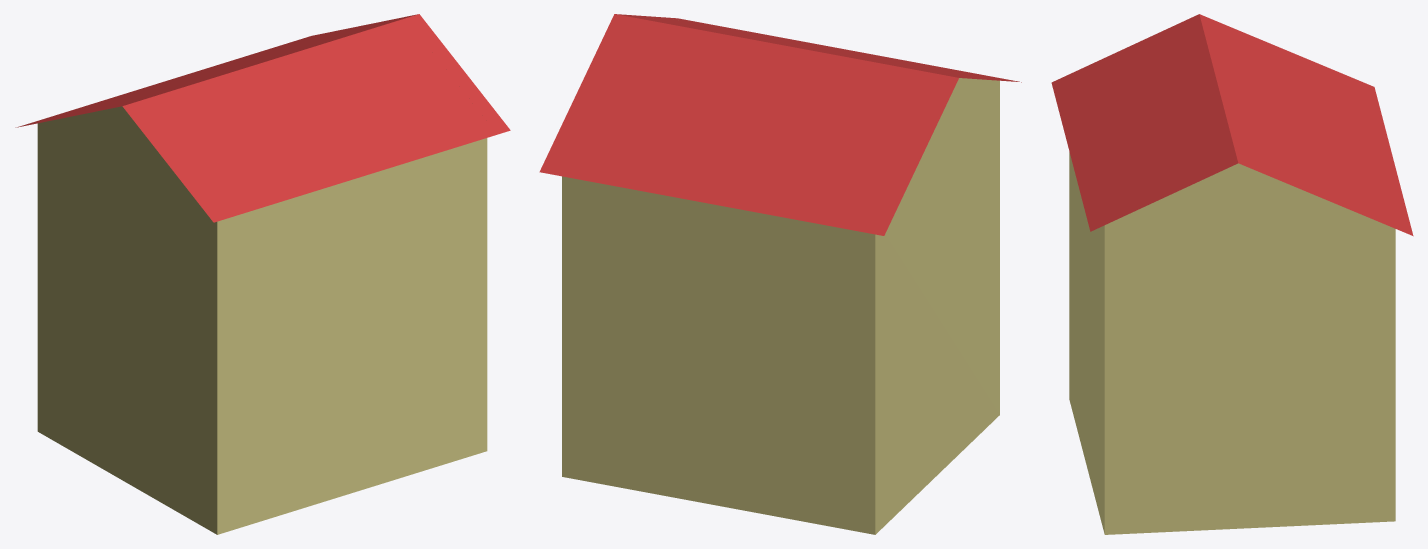
3 views of the same model, side by side, from view 1: azimuth 30°, elevation 25°; view 2: azimuth 150°, elevation 25°; view 3: azimuth 270°, elevation 25° (orthographic). The views are drawn at different scales.
Size of the model in its own units: 12.01 by 11.18 by 12.68.
